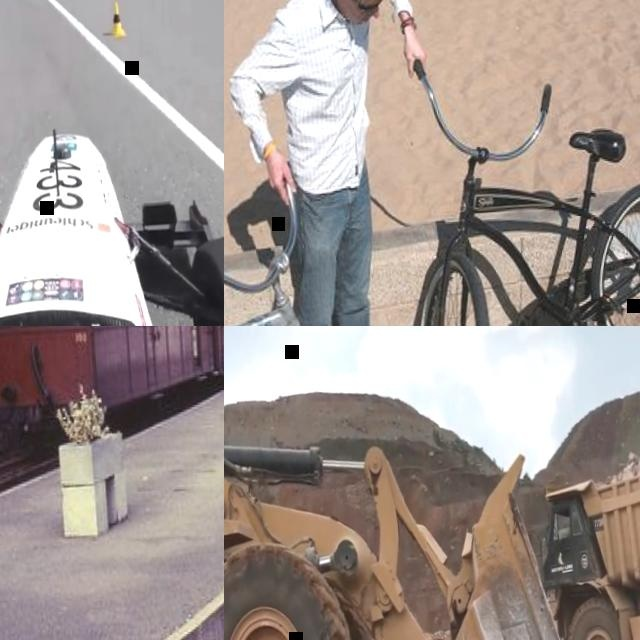NO-Mask: (325, 0, 369, 27)
Person: (224, 0, 450, 326)
Safety Cone: (107, 0, 126, 37)
Safety Vest: (280, 0, 379, 193)
machinery: (224, 326, 610, 640), (529, 423, 640, 640)
vehicle: (0, 108, 224, 326)
